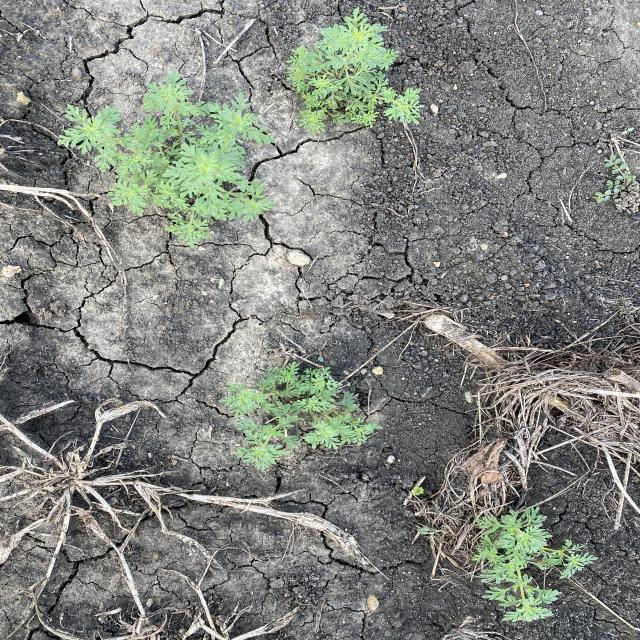Ragweed: (54, 70, 282, 247), (279, 3, 429, 137), (216, 356, 384, 474), (471, 502, 603, 624)
SpottedSpurge: (589, 152, 638, 206)
